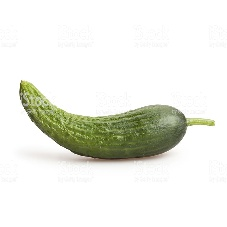cucumber: (18, 78, 190, 159)
